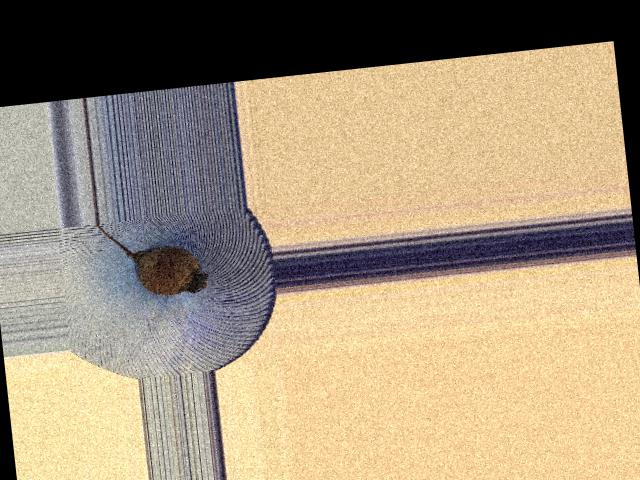beet: (97, 211, 210, 301)
